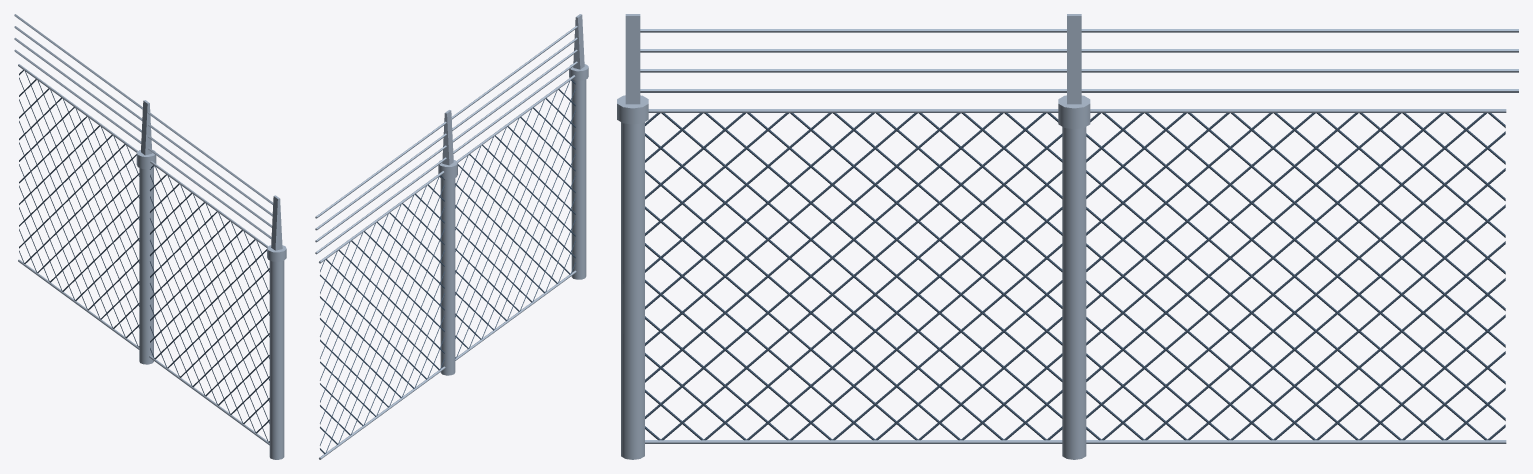
File: Alambre_Doble.fbx
3 renders of one model, left to right at view 1: azimuth 30°, elevation 25°; view 2: azimuth 150°, elevation 25°; view 3: azimuth 270°, elevation 25°, orthographic. The views are drawn at different scales.
Visible parts, largest first — view 1: Alambre_Doble; view 2: Alambre_Doble; view 3: Alambre_Doble.
Boxes of the visible parts, <box> form: Alambre_Doble: <box>14,14,286,459</box>; Alambre_Doble: <box>315,14,588,459</box>; Alambre_Doble: <box>617,14,1518,459</box>.
Bounding box in the file's own units: 44.75 × 650 × 1208.
